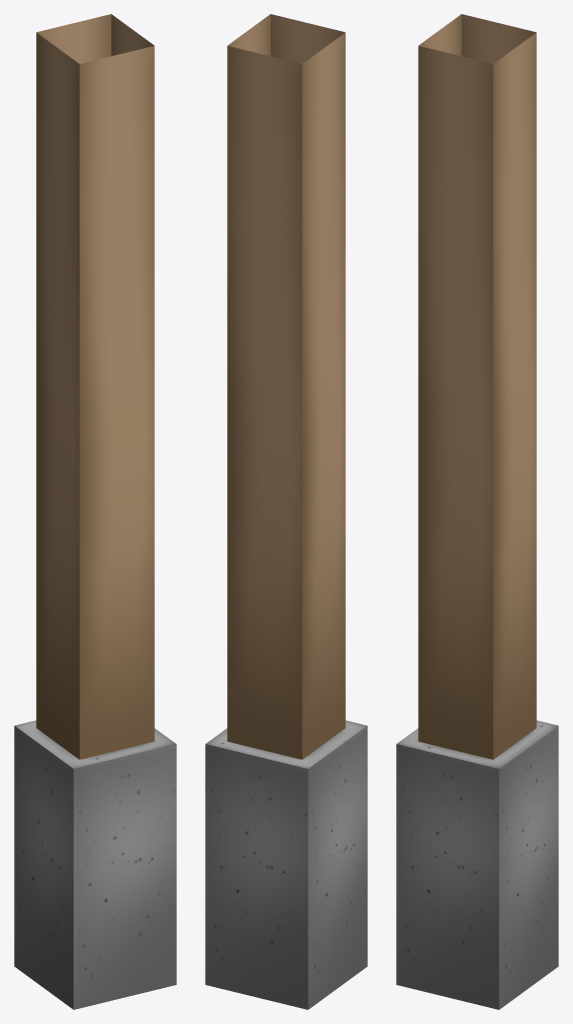
Rendered from Me_Pillars.fbx.
The picture shows the model from 3 angles, left to right: view 1: azimuth 30°, elevation 25°; view 2: azimuth 150°, elevation 25°; view 3: azimuth 330°, elevation 25°; orthographic projection.
Parts seen in each view (by area): view 1: roofing; view 2: roofing; view 3: roofing.
Part boxes in pixels (bbox=[...]): roofing: bbox=[14, 14, 176, 1009]; roofing: bbox=[205, 14, 367, 1009]; roofing: bbox=[396, 14, 558, 1009].
Bounding box in the file's own units: 15.4 × 134 × 15.4.
